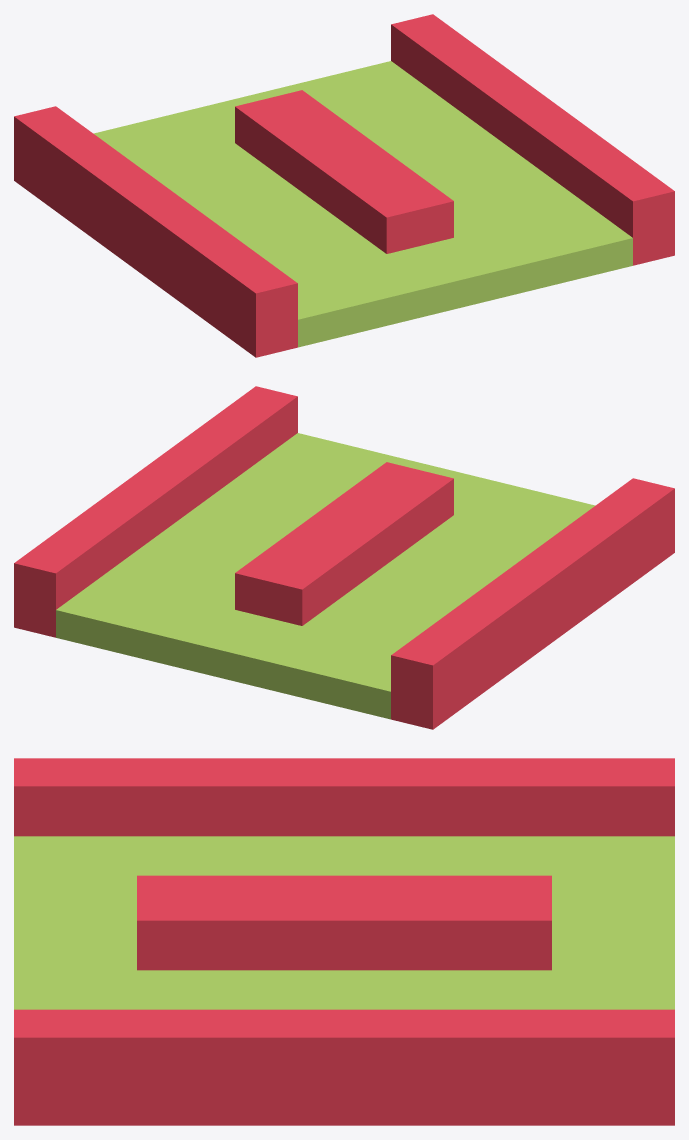
Rendered from obstacleBlock.fbx.
3 renders of one model, top to bottom at view 1: azimuth 30°, elevation 25°; view 2: azimuth 150°, elevation 25°; view 3: azimuth 270°, elevation 25°, orthographic. The views are drawn at different scales.
Parts seen in each view (by area): view 1: obstacleBlock; view 2: obstacleBlock; view 3: obstacleBlock.
Part boxes in pixels (box(x1,y1,x2,y2)): obstacleBlock: box(14, 14, 674, 357); obstacleBlock: box(14, 386, 674, 729); obstacleBlock: box(14, 758, 674, 1125).
Size of the model in its own units: 10 by 1.47 by 10.
